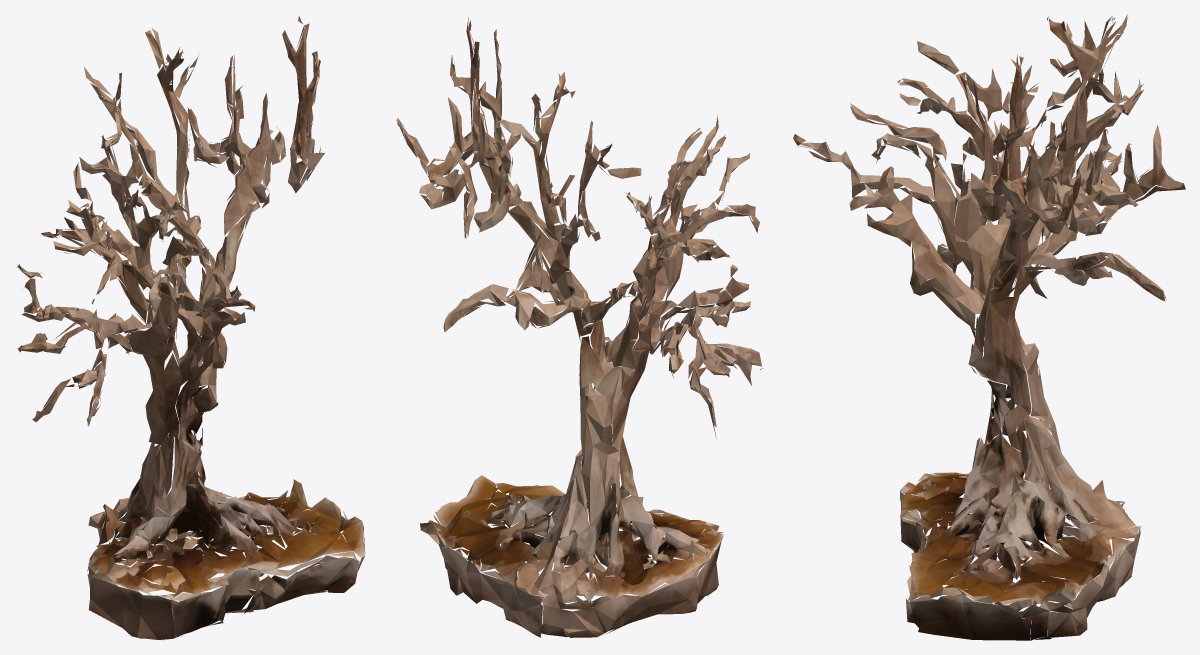
File: dead-tree.glb
3 renders of one model, left to right at view 1: azimuth 30°, elevation 25°; view 2: azimuth 150°, elevation 25°; view 3: azimuth 270°, elevation 25°, orthographic. The views are drawn at different scales.
Visible parts, largest first — view 1: tmpakik5mxj.ply; view 2: tmpakik5mxj.ply; view 3: tmpakik5mxj.ply.
Part boxes in pixels (x1,y1,x2,y2): tmpakik5mxj.ply: (17, 16, 365, 640); tmpakik5mxj.ply: (396, 17, 762, 637); tmpakik5mxj.ply: (793, 14, 1185, 640).
Bounding box in the file's own units: 3 × 5 × 3.
1 material, 1 textured.
